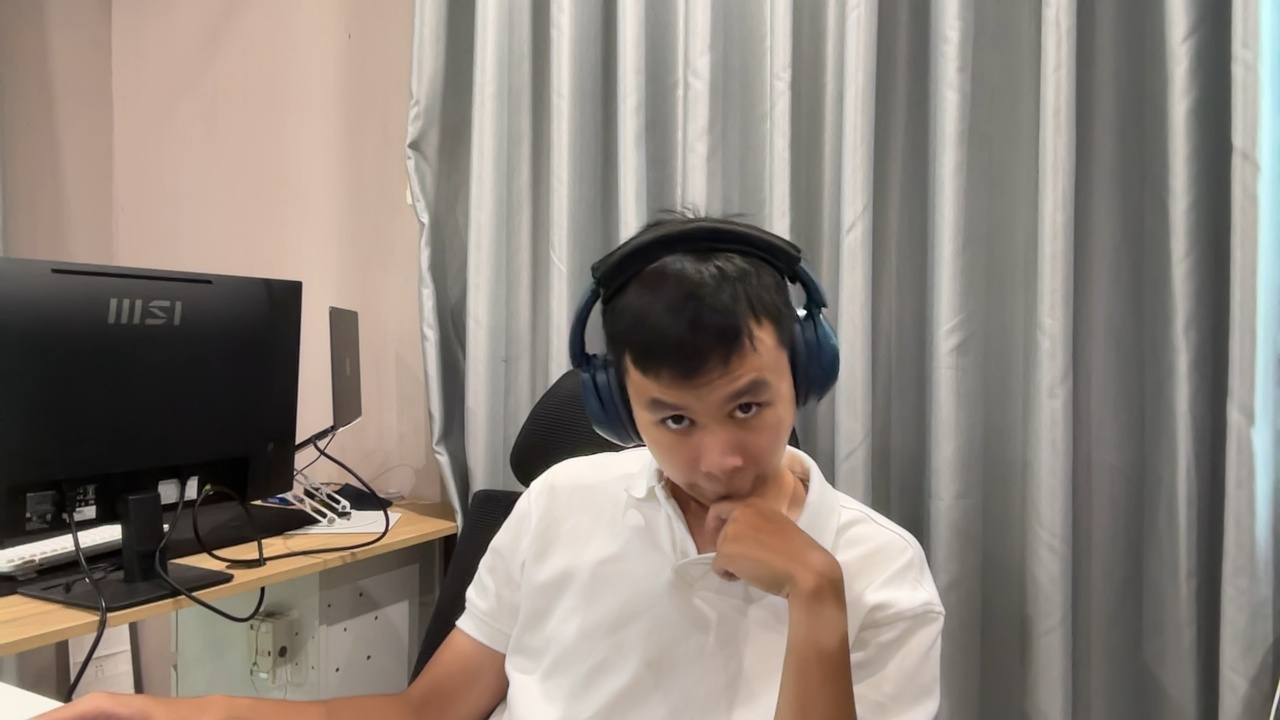over_ear: (505, 211, 855, 491), (568, 211, 840, 463)
